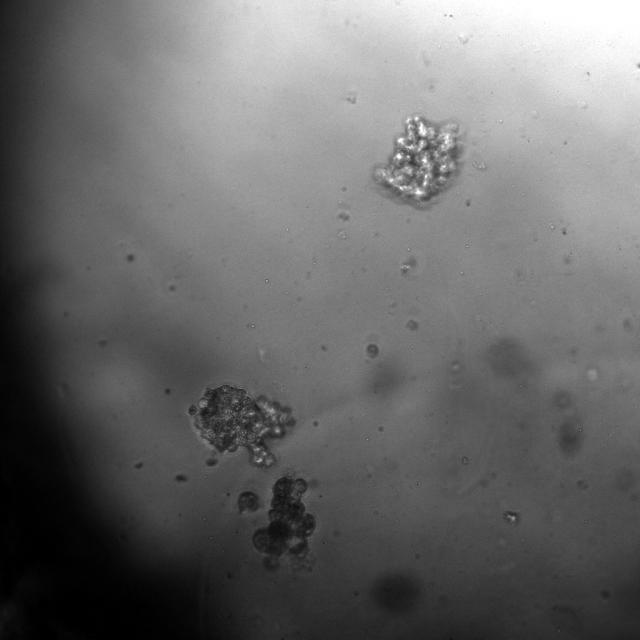organoid: (188, 385, 295, 468), (375, 115, 458, 205), (254, 475, 316, 567), (238, 491, 259, 513)
